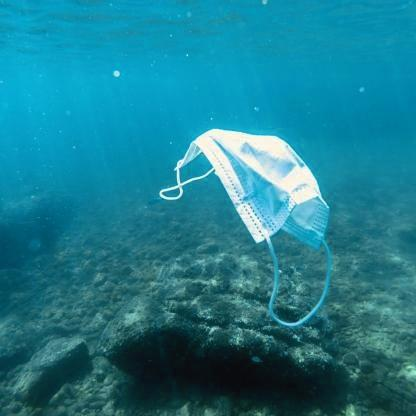Mask: (158, 126, 334, 326)
